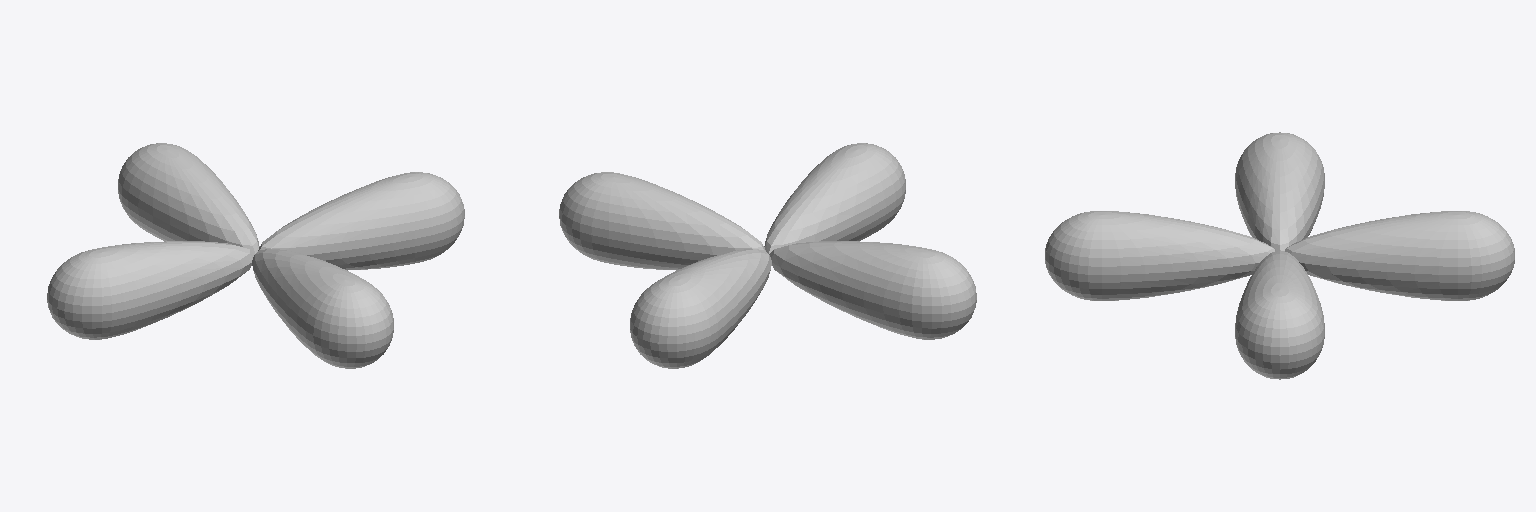
3 renders of one model, left to right at view 1: azimuth 30°, elevation 25°; view 2: azimuth 150°, elevation 25°; view 3: azimuth 270°, elevation 25°, orthographic.
Visible parts, largest first — view 1: dz, dx; view 2: dz, dx; view 3: dx, dz.
Boxes of the visible parts, <box> form: dz: <box>47,172,464,339</box>; dx: <box>118,143,393,368</box>; dz: <box>559,172,976,339</box>; dx: <box>630,143,905,368</box>; dx: <box>1045,211,1514,300</box>; dz: <box>1235,132,1324,379</box>.
Bounding box in the file's own units: 42.61 × 8.21 × 42.61.